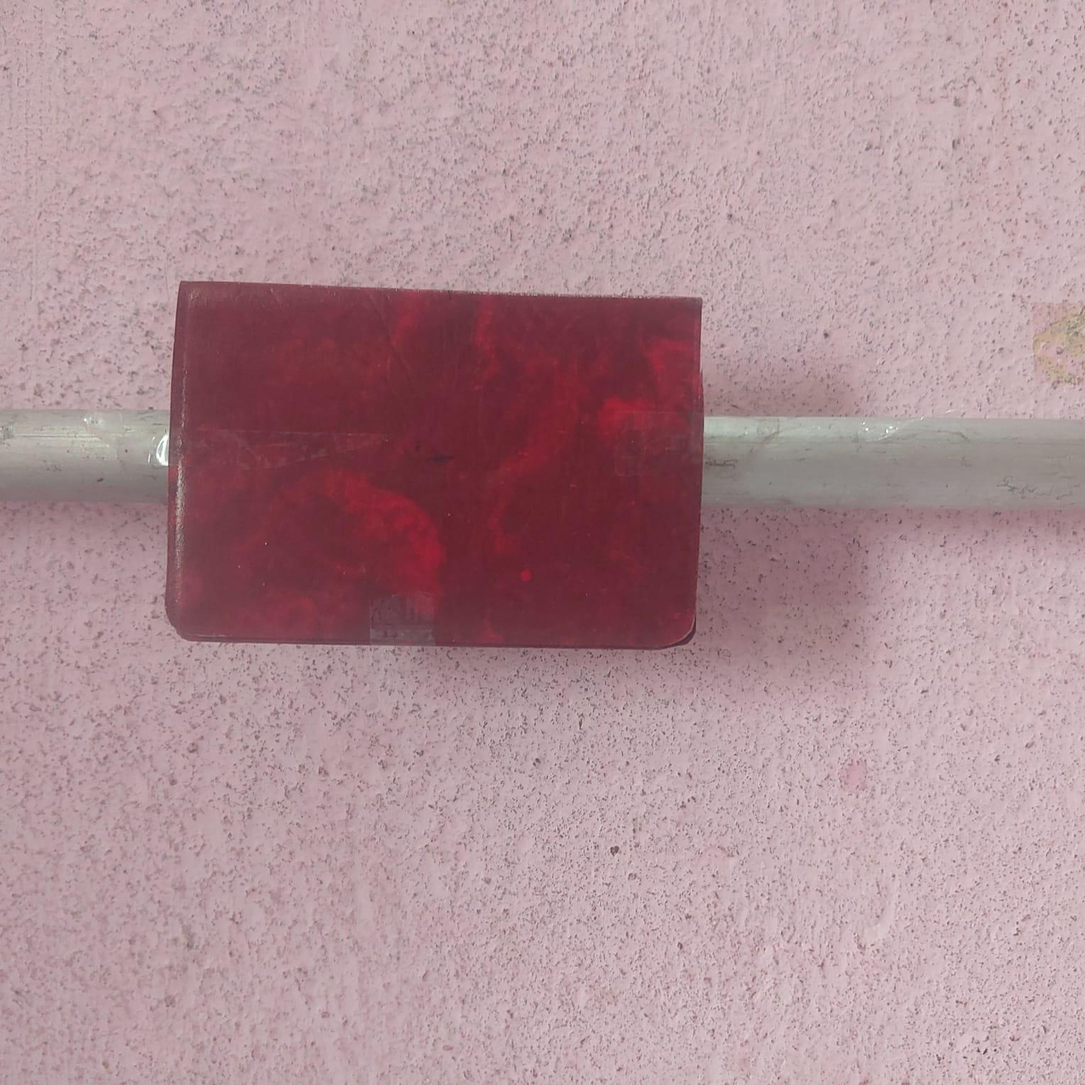wallet: (161, 278, 703, 643)
